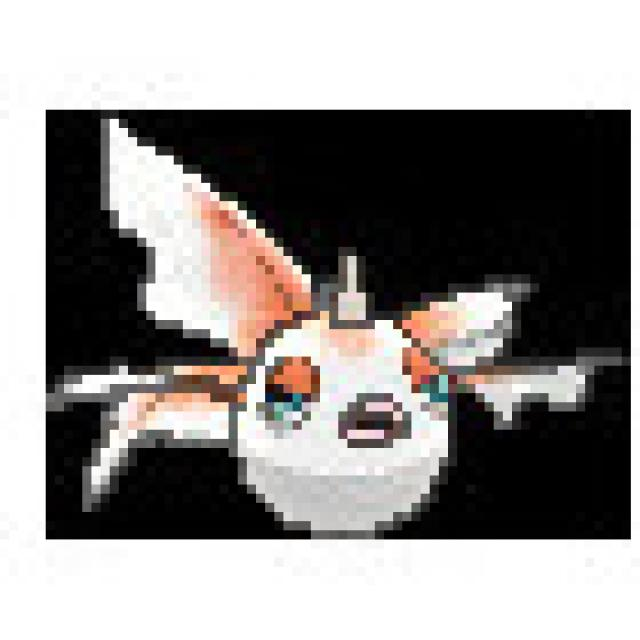Goldeen: (132, 183, 542, 535)
